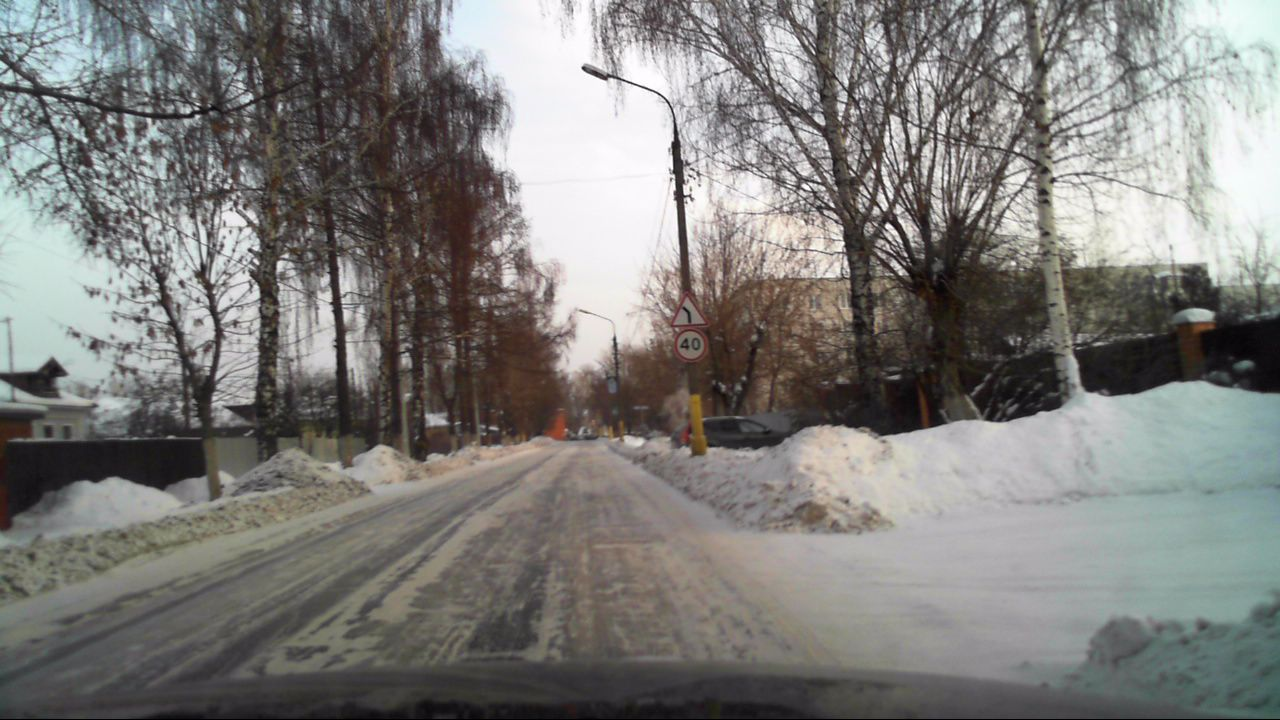speed_warning_40: (674, 330, 707, 363)
